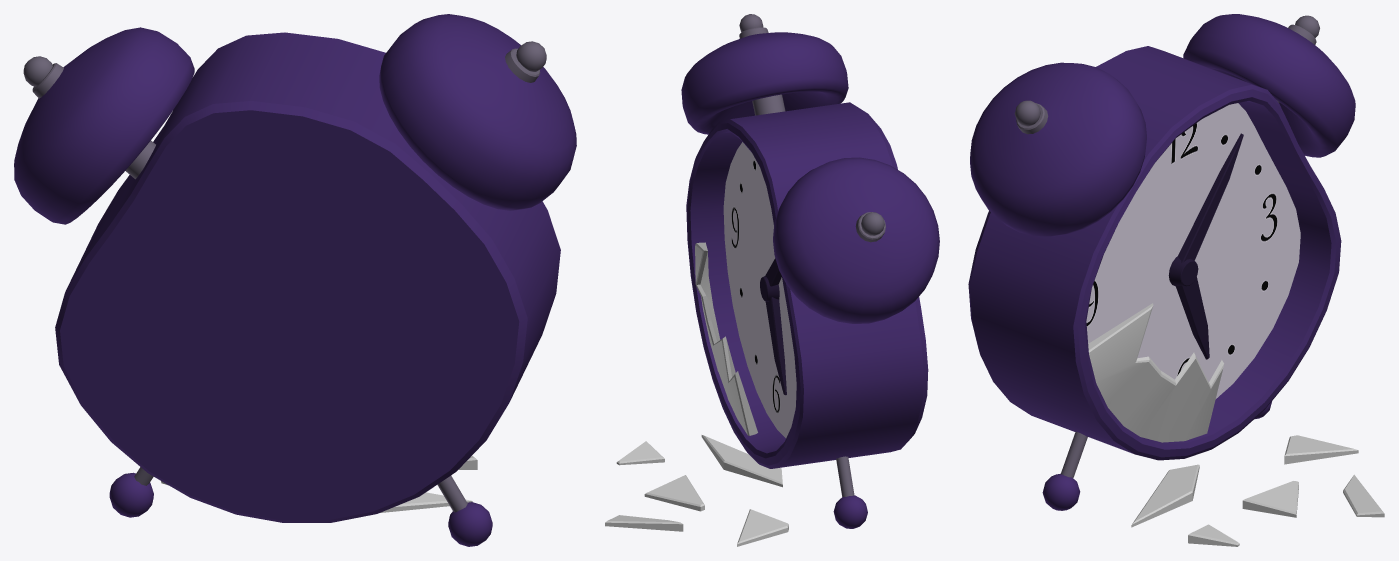
Rendered from Clock.glb.
3 renders of one model, left to right at view 1: azimuth 30°, elevation 25°; view 2: azimuth 150°, elevation 25°; view 3: azimuth 270°, elevation 25°, orthographic. The views are drawn at different scales.
Parts seen in each view (by area): view 1: Clock.001; view 2: Clock.001; view 3: Clock.001.
Boxes of the visible parts, x1,y1,x2,y2 form: Clock.001: (14,14,576,546); Clock.001: (605,14,939,546); Clock.001: (968,14,1384,546).
Size of the model in its own units: 2.94 by 3.39 by 2.97.
Materials: 2 (1 with a texture image).
